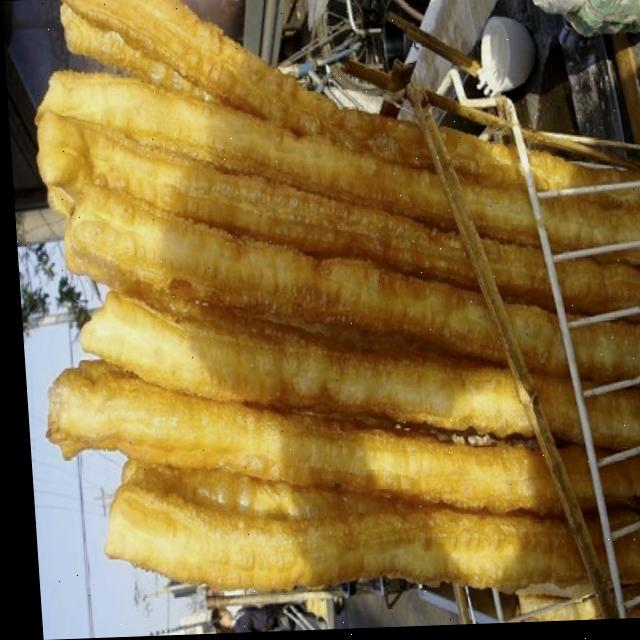炸货点心: (28, 2, 640, 610)
